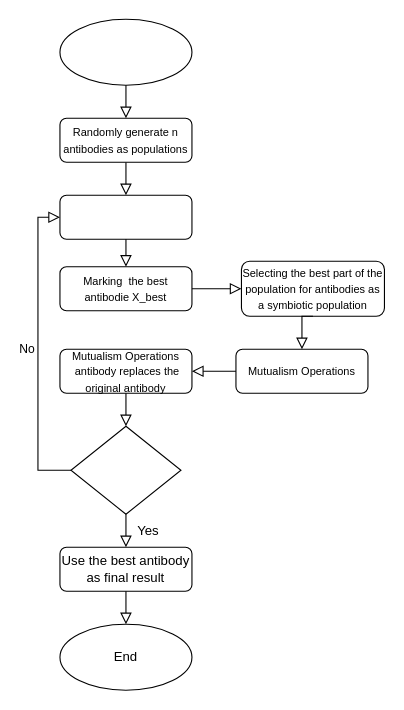
Some shapes in this 404 by 710 pixel diagram are drawn without their labels. Each missing label, with the box of its shape:
Evaluate the Fitness Value of each antibody: (59, 194, 192, 239)
Meeting termination conditions?: (70, 425, 181, 514)
Start: (59, 18, 192, 85)
